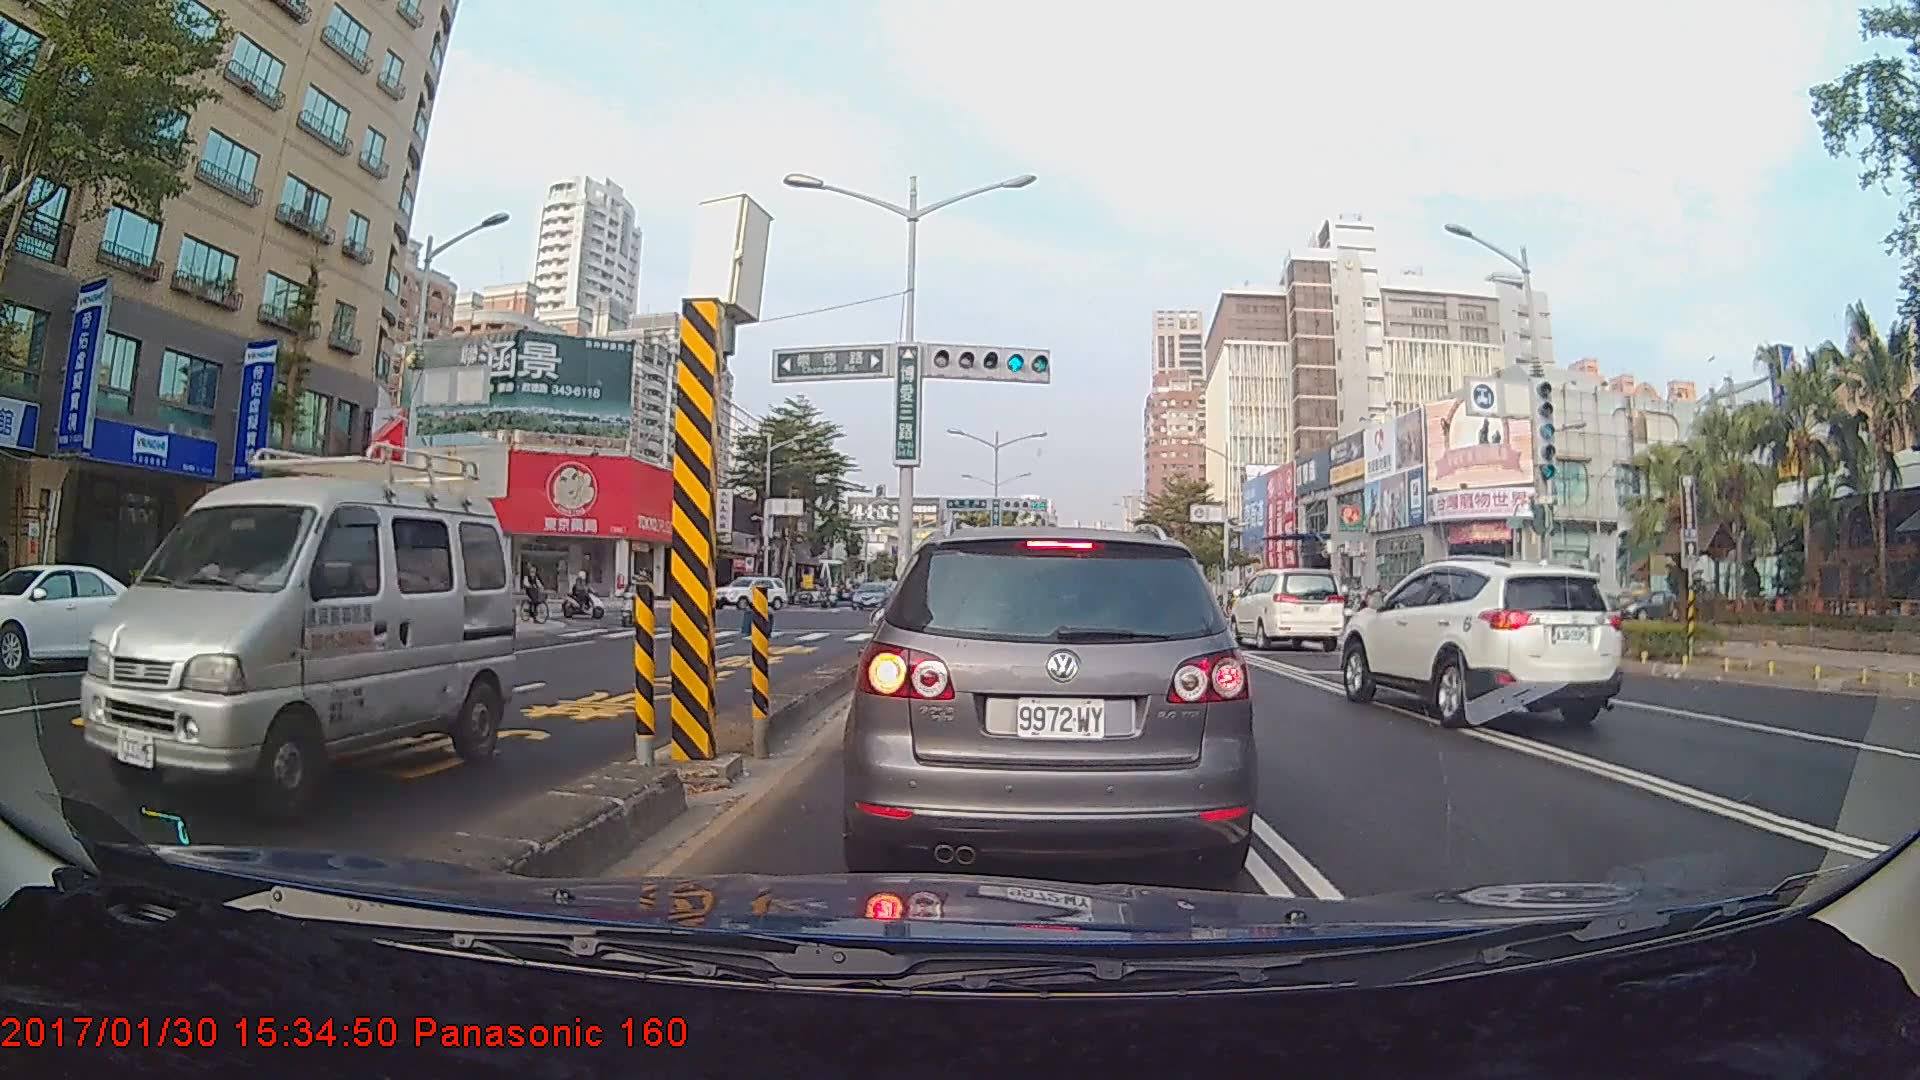rider: (562, 568, 614, 625), (518, 559, 553, 629), (1398, 580, 1423, 637)
vehicle: (78, 439, 517, 823), (851, 522, 1248, 882), (1337, 556, 1626, 726), (0, 561, 157, 671), (1223, 565, 1346, 652), (852, 581, 892, 612)
